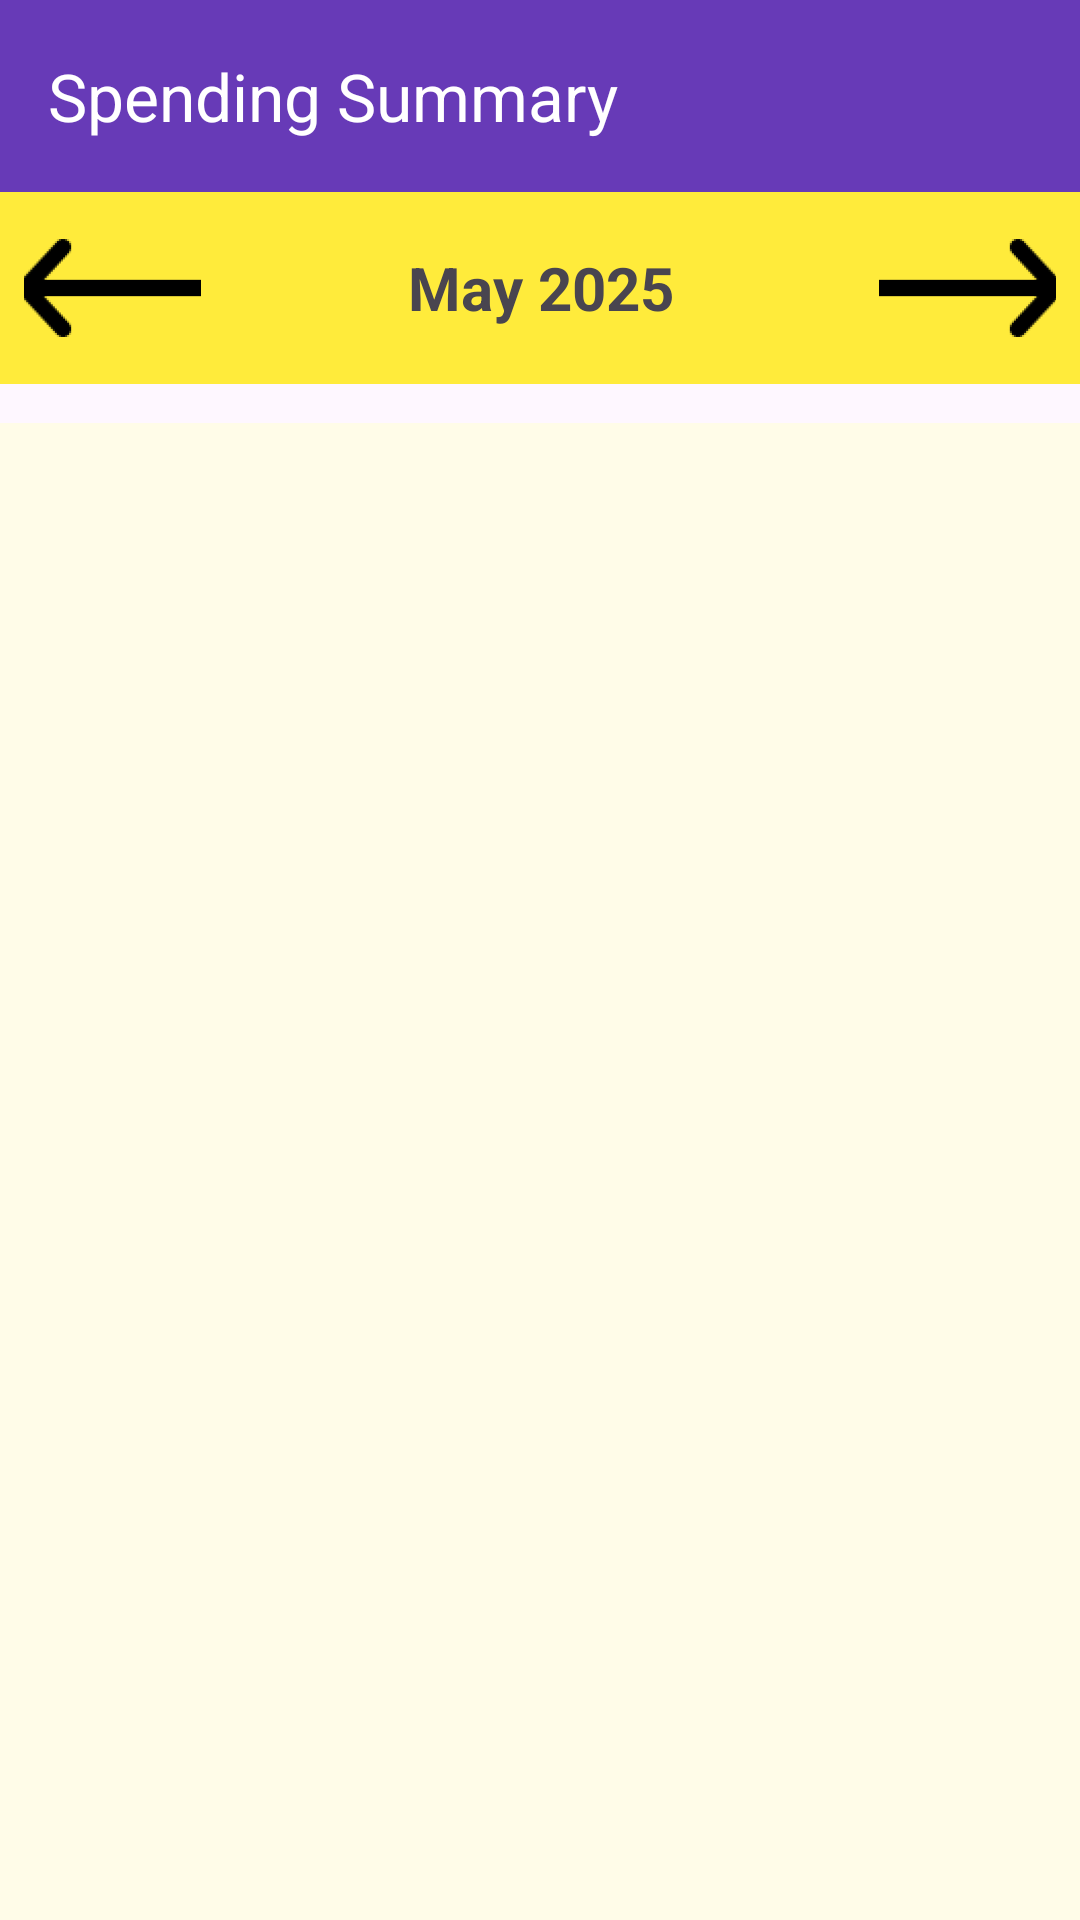

Screen size 1080w x 1920h. Icon name, then its box in pixels as (x1, y1, x2, y2):
Next Month: (879, 239, 1056, 337)
Previous Month: (24, 239, 201, 337)
